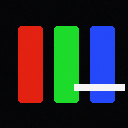3 line_h: (74, 84, 124, 90)
